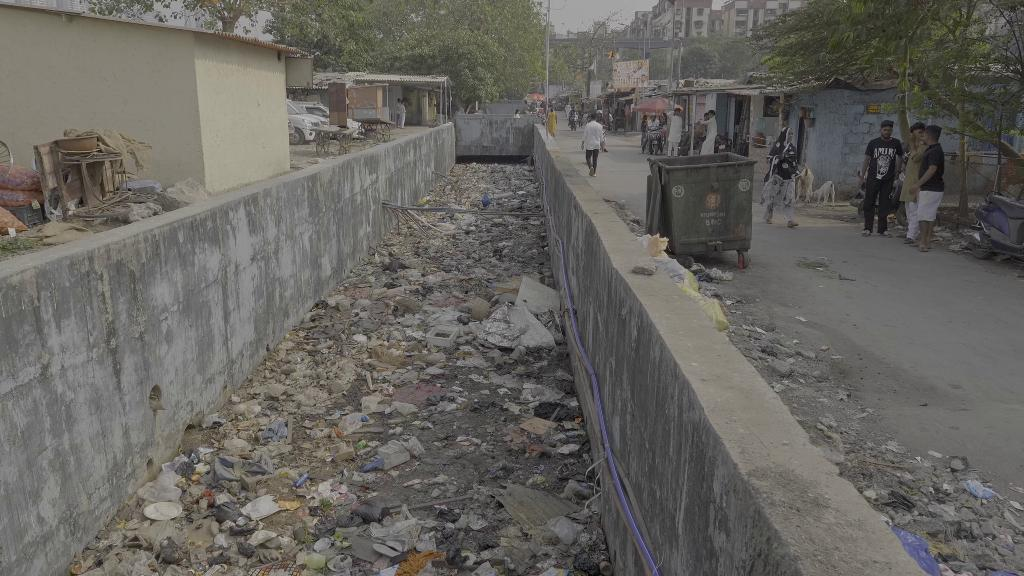dustbin: (645, 150, 757, 270)
garbage: (241, 492, 289, 520), (141, 470, 181, 502), (349, 499, 390, 523), (142, 502, 184, 518), (260, 419, 289, 442), (215, 501, 245, 523), (445, 543, 469, 567), (391, 401, 419, 416), (236, 540, 258, 557), (316, 519, 338, 536), (292, 473, 312, 488), (290, 369, 314, 379), (480, 193, 493, 208)
